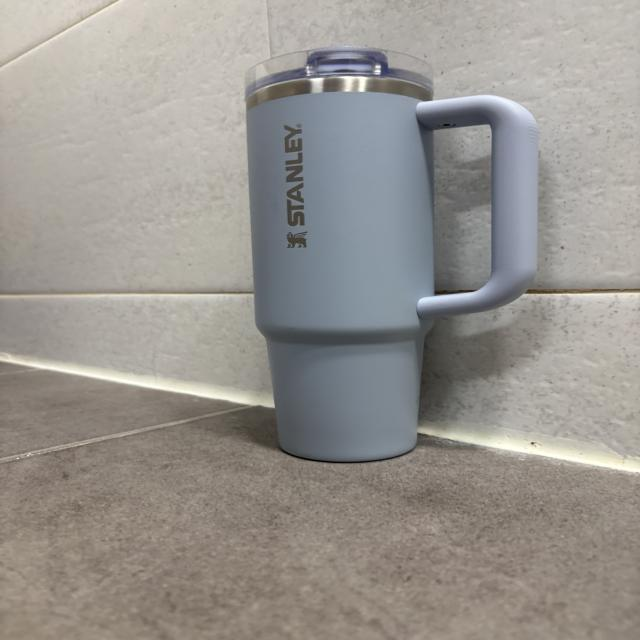waterbottle: (245, 48, 533, 464)
